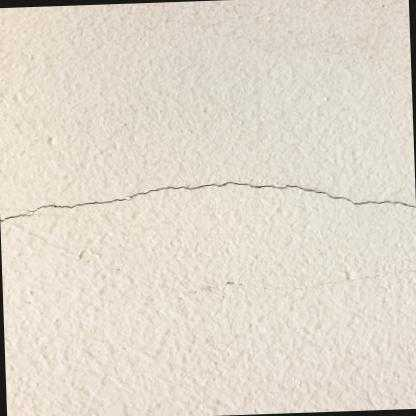crack: (0, 181, 416, 221)
